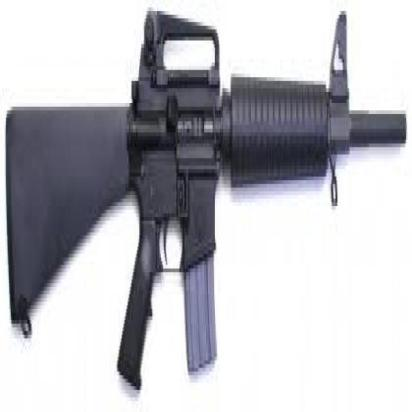Gun: (0, 10, 411, 411)
